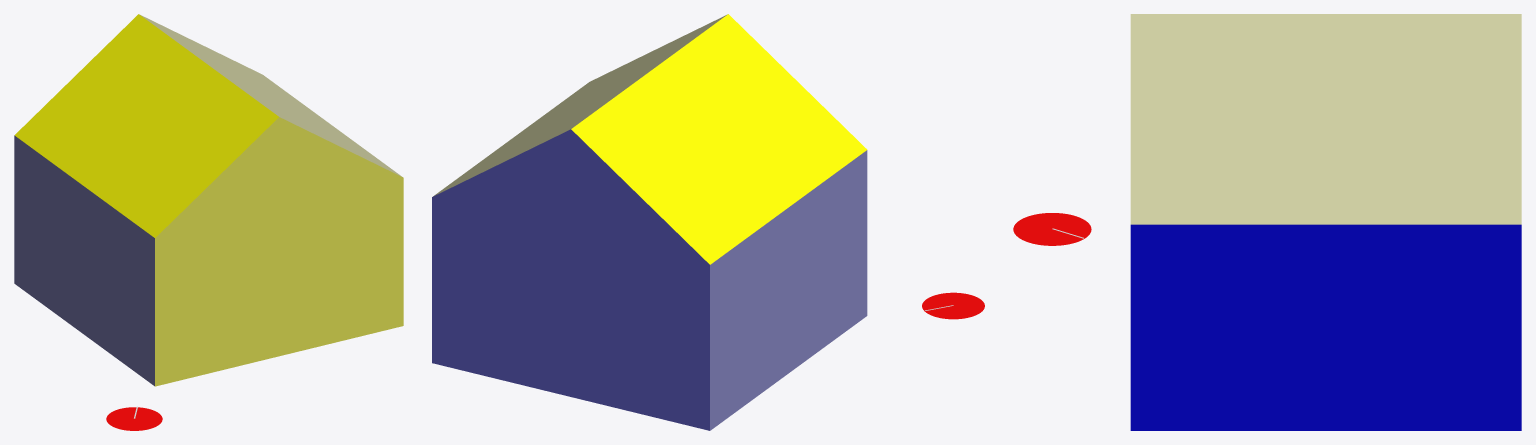
The model's file is result.glb.
3 views of the same model, side by side, from view 1: azimuth 30°, elevation 25°; view 2: azimuth 150°, elevation 25°; view 3: azimuth 270°, elevation 25° (orthographic). The views are drawn at different scales.
Parts seen in each view (by area): view 1: 64d25057-ed15-4292-91d6-c83c68d0d8be__undefined, eecfb975-a167-4844-b081-a4913706f619__undefined, 688eca51-808c-4df7-b6dc-dc1ea8f8a915__undefined, 79f34fea-1371-483b-b43a-9bf4060daa4b__undefined, aff3b975-52e6-40db-b5f5-956d46b52cf9__Circle; view 2: d6e8d5e8-aed5-490a-801d-307eb6744b8d__undefined, eecfb975-a167-4844-b081-a4913706f619__undefined, 688eca51-808c-4df7-b6dc-dc1ea8f8a915__undefined, 79f34fea-1371-483b-b43a-9bf4060daa4b__undefined, aff3b975-52e6-40db-b5f5-956d46b52cf9__Circle; view 3: 79f34fea-1371-483b-b43a-9bf4060daa4b__undefined, 6d84a140-d299-4a0f-bc86-68f510442fee__undefined, aff3b975-52e6-40db-b5f5-956d46b52cf9__Circle.
Boxes of the visible parts, bbox=[...] form: 64d25057-ed15-4292-91d6-c83c68d0d8be__undefined: bbox=[155, 117, 403, 386]; eecfb975-a167-4844-b081-a4913706f619__undefined: bbox=[14, 14, 278, 237]; 688eca51-808c-4df7-b6dc-dc1ea8f8a915__undefined: bbox=[14, 135, 154, 386]; 79f34fea-1371-483b-b43a-9bf4060daa4b__undefined: bbox=[139, 14, 401, 176]; aff3b975-52e6-40db-b5f5-956d46b52cf9__Circle: bbox=[106, 407, 162, 430]; d6e8d5e8-aed5-490a-801d-307eb6744b8d__undefined: bbox=[432, 129, 709, 430]; eecfb975-a167-4844-b081-a4913706f619__undefined: bbox=[571, 14, 867, 264]; 688eca51-808c-4df7-b6dc-dc1ea8f8a915__undefined: bbox=[710, 150, 867, 430]; 79f34fea-1371-483b-b43a-9bf4060daa4b__undefined: bbox=[433, 14, 727, 196]; aff3b975-52e6-40db-b5f5-956d46b52cf9__Circle: bbox=[922, 292, 984, 319]; 79f34fea-1371-483b-b43a-9bf4060daa4b__undefined: bbox=[1130, 14, 1521, 224]; 6d84a140-d299-4a0f-bc86-68f510442fee__undefined: bbox=[1130, 224, 1521, 430]; aff3b975-52e6-40db-b5f5-956d46b52cf9__Circle: bbox=[1013, 213, 1091, 245].
Size of the model in its own units: 660 by 469 by 650.
